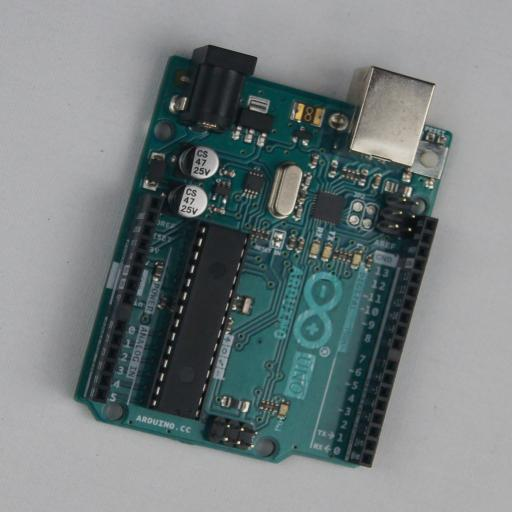Arduino Uno -Green-: (74, 44, 452, 468)
